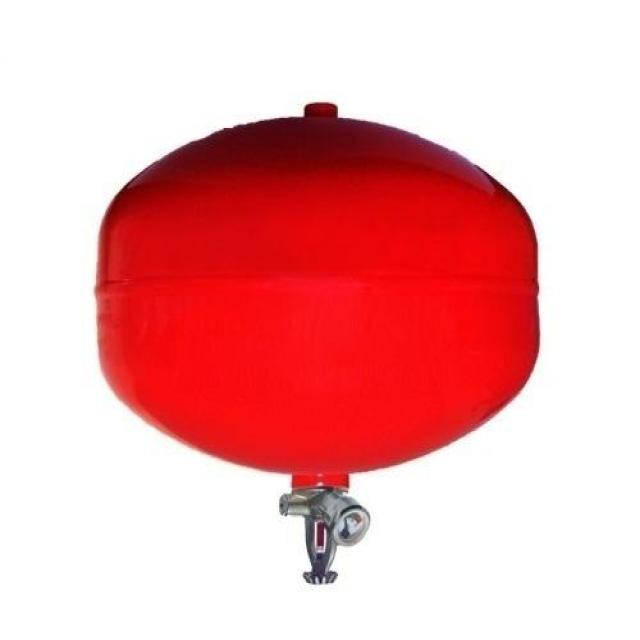fire_extinguisher: (87, 98, 544, 590)
